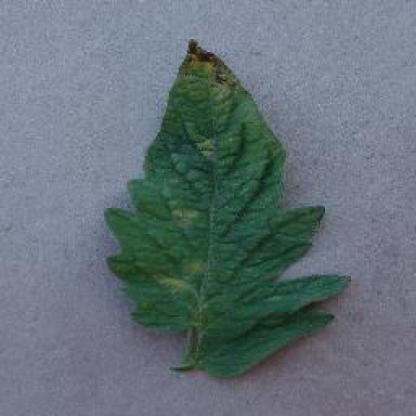Tomato_Leaf_Mold: (109, 43, 351, 367)
